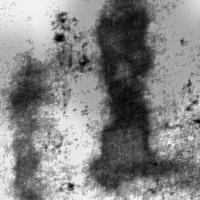patches: (52, 0, 200, 131), (95, 1, 171, 193), (0, 116, 79, 200), (0, 31, 57, 123), (8, 56, 44, 199)
